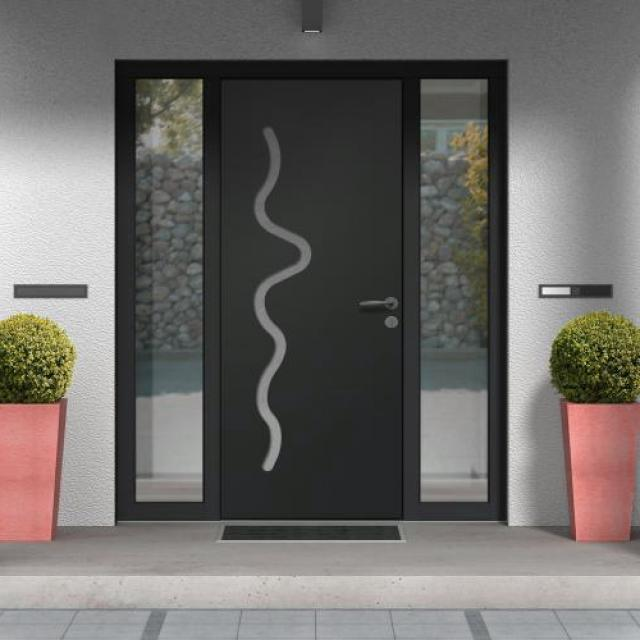door: (206, 42, 431, 530)
